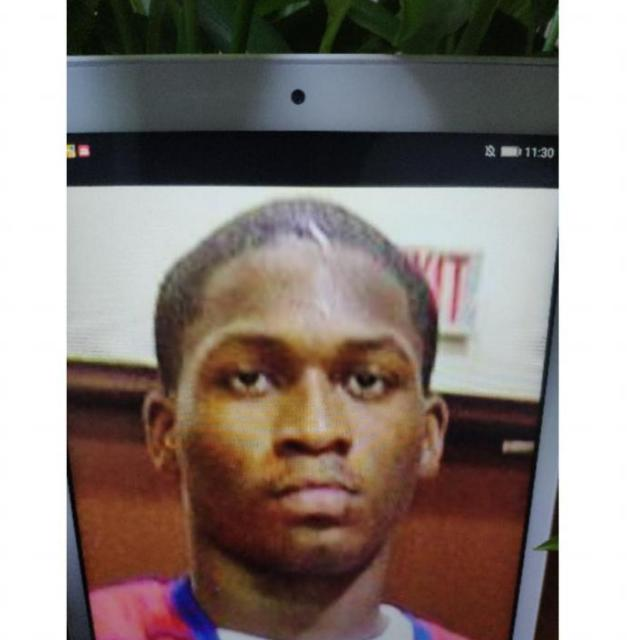device: (66, 48, 557, 640)
